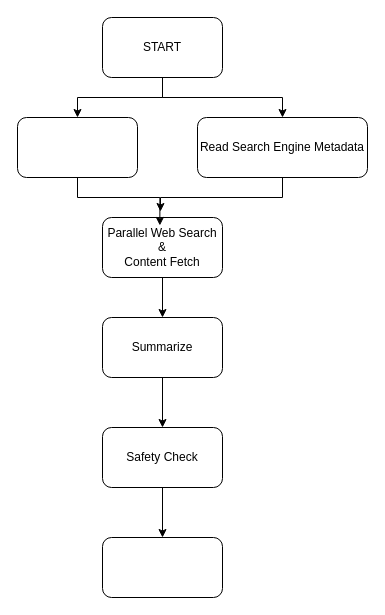
The diagram is 385 pixels wide and 615 high, and some of its shapes have lost their labels. Each missing label, with the centre of its shape:
END: (x=162, y=567)
Read User Input: (x=77, y=147)
